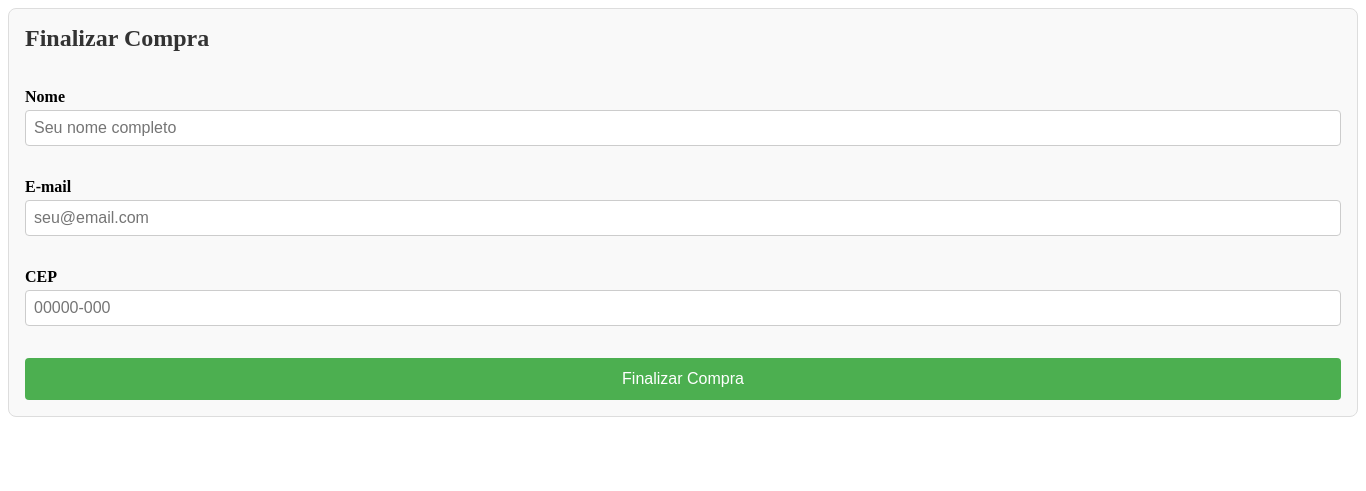
Test case: CheckoutForm › exibe erro quando o nome está vazio ao tentar submeter
What coordinates should you click on to do the following:
click the button "Finalizar Compra"
I would click on:
 (683, 379)
Its box is [25,358,1341,400].
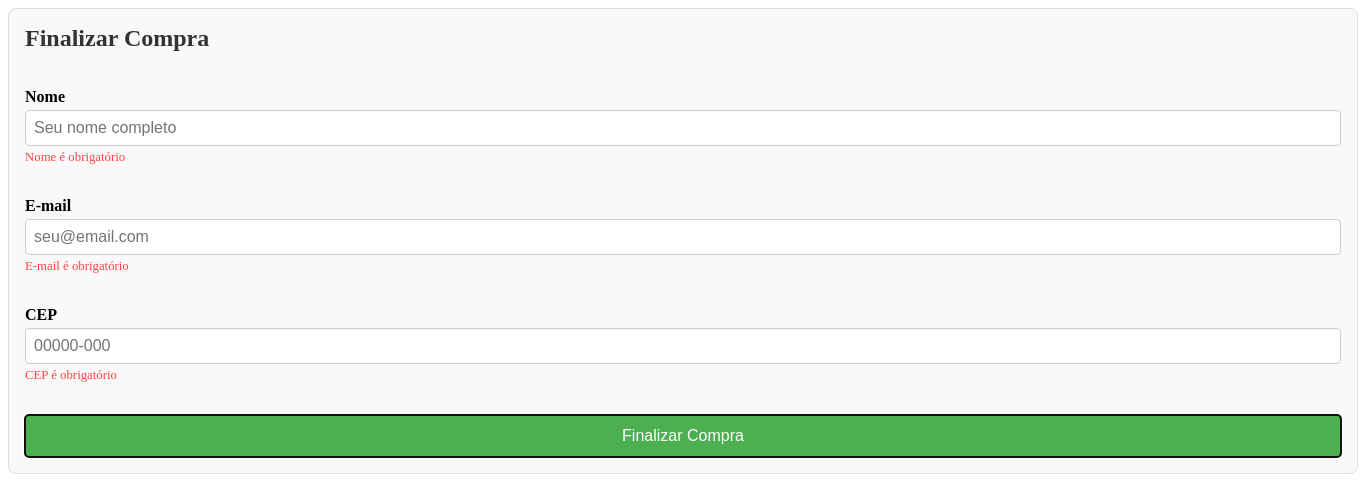
Check: the text "Nome é obrigatório" is shown, box [25,150,125,164]
